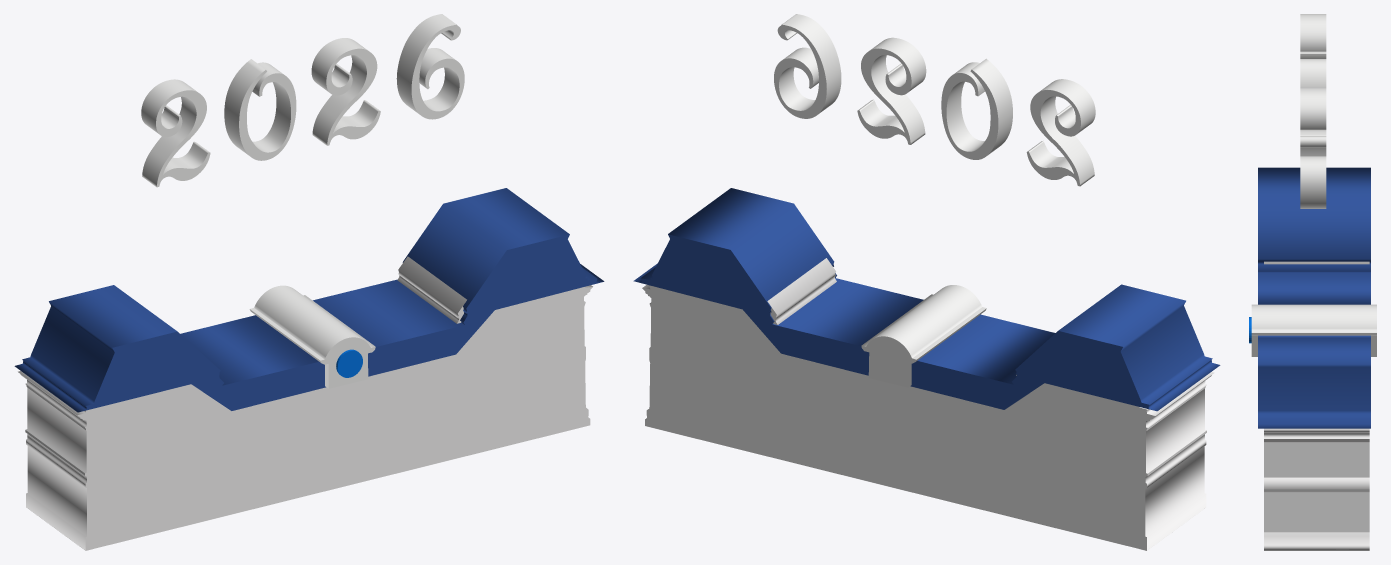
3 renders of one model, left to right at view 1: azimuth 30°, elevation 25°; view 2: azimuth 150°, elevation 25°; view 3: azimuth 270°, elevation 25°, orthographic. The views are drawn at different scales.
Parts seen in each view (by area): view 1: batiment blanc, Curve.520; view 2: batiment blanc, Curve.520; view 3: batiment blanc, Curve.520.
Part boxes in pixels (bbox=[...]): batiment blanc: bbox=[14, 188, 604, 550]; Curve.520: bbox=[141, 14, 464, 187]; batiment blanc: bbox=[633, 188, 1220, 550]; Curve.520: bbox=[774, 14, 1095, 186]; batiment blanc: bbox=[1249, 167, 1376, 550]; Curve.520: bbox=[1300, 14, 1326, 208].
Size of what is drawn, in the model's own units: 2.07 by 1.57 by 0.4894.
